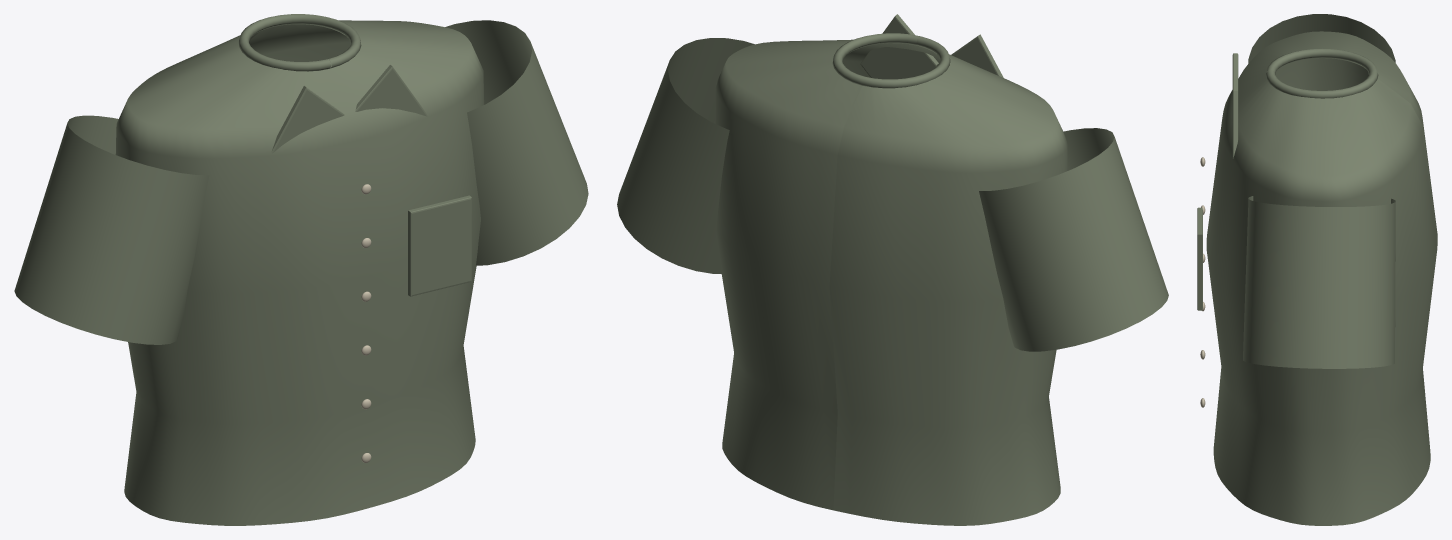
File: chemise-riviera-homme.glb
3 views of the same model, side by side, from view 1: azimuth 30°, elevation 25°; view 2: azimuth 150°, elevation 25°; view 3: azimuth 270°, elevation 25° (orthographic). The views are drawn at different scales.
Parts seen in each view (by area): view 1: edit-09, short-sleeve (×2); view 2: edit-09, short-sleeve (×2); view 3: edit-09, short-sleeve (×2).
Boxes of the visible parts, box(x1,y1,x2,y2) form: edit-09: box(115, 14, 484, 525); short-sleeve (×2): box(14, 20, 588, 344); edit-09: box(714, 14, 1067, 525); short-sleeve (×2): box(617, 38, 1168, 351); edit-09: box(1197, 31, 1437, 525); short-sleeve (×2): box(1243, 14, 1395, 368).
Bounding box in the file's own units: 0.7063 × 0.5265 × 0.2985.
